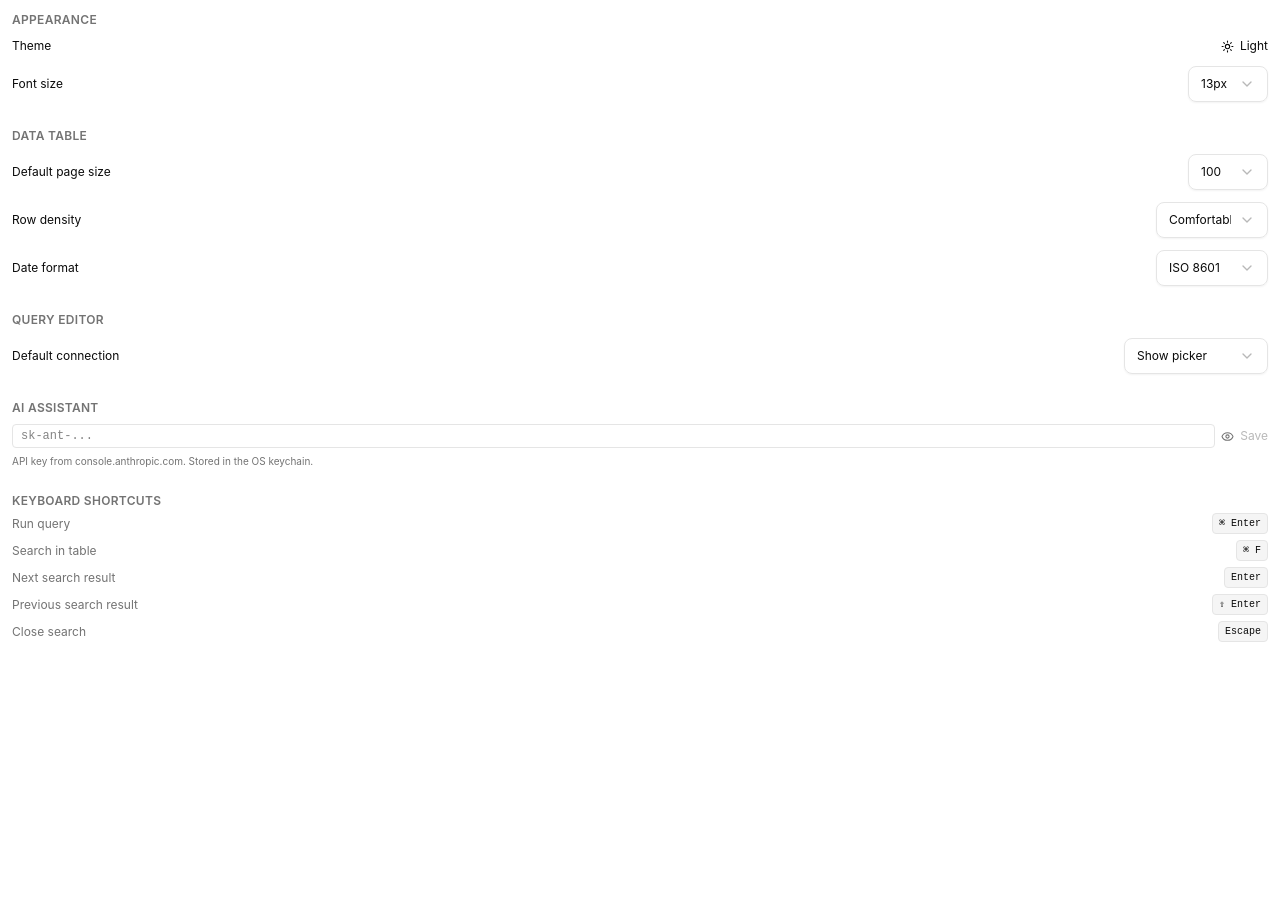
it: SettingsPanel — AI Assistant section (no API key) › Save button is enabled when input has text
Type "sk-ant-abc123" into the password field with placeholder "sk-ant-..." at (614, 436), box [12,424,1215,448]
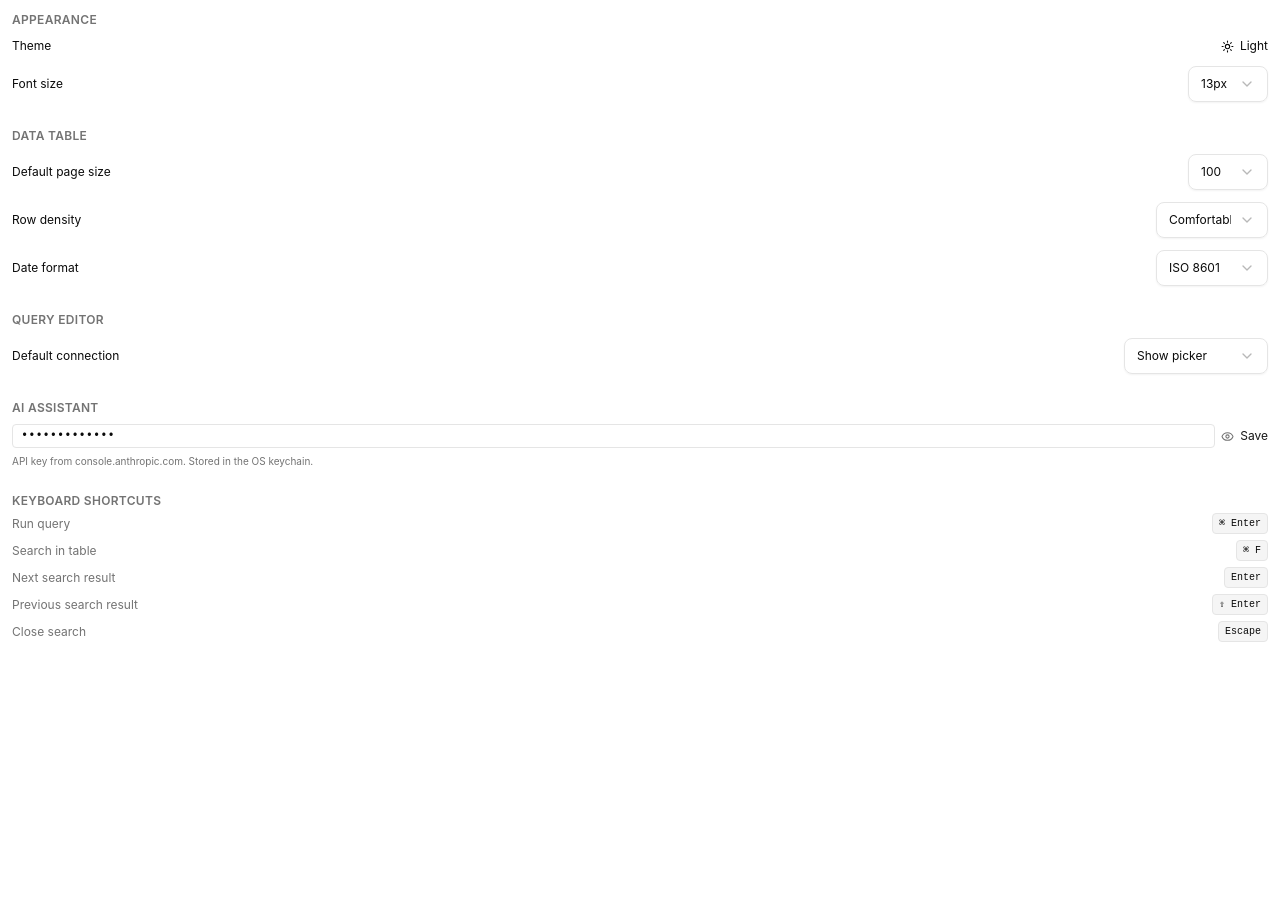
Check: the button "Save" is enabled, box [1240,428,1268,444]
